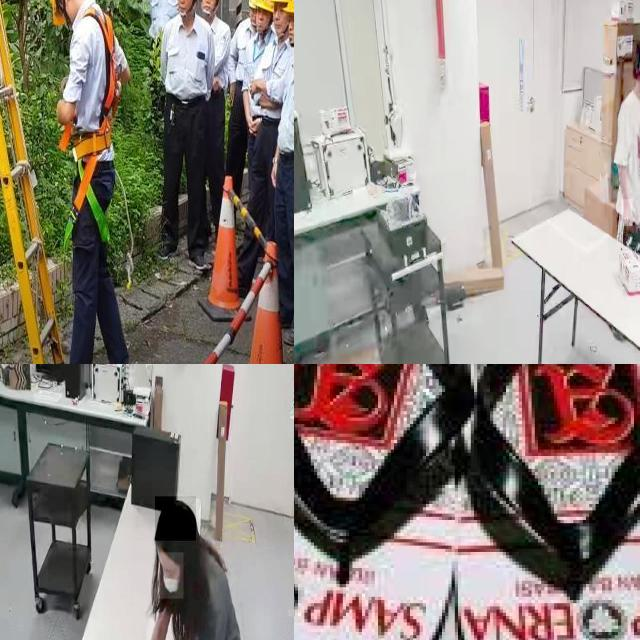Harness: (61, 5, 116, 251)
Sandals: (294, 364, 640, 640)
face_mask: (158, 552, 184, 598)
hand_noglove: (621, 199, 633, 227)
head_nohelmet: (155, 496, 197, 542)
person: (129, 502, 244, 640), (608, 40, 640, 262)
